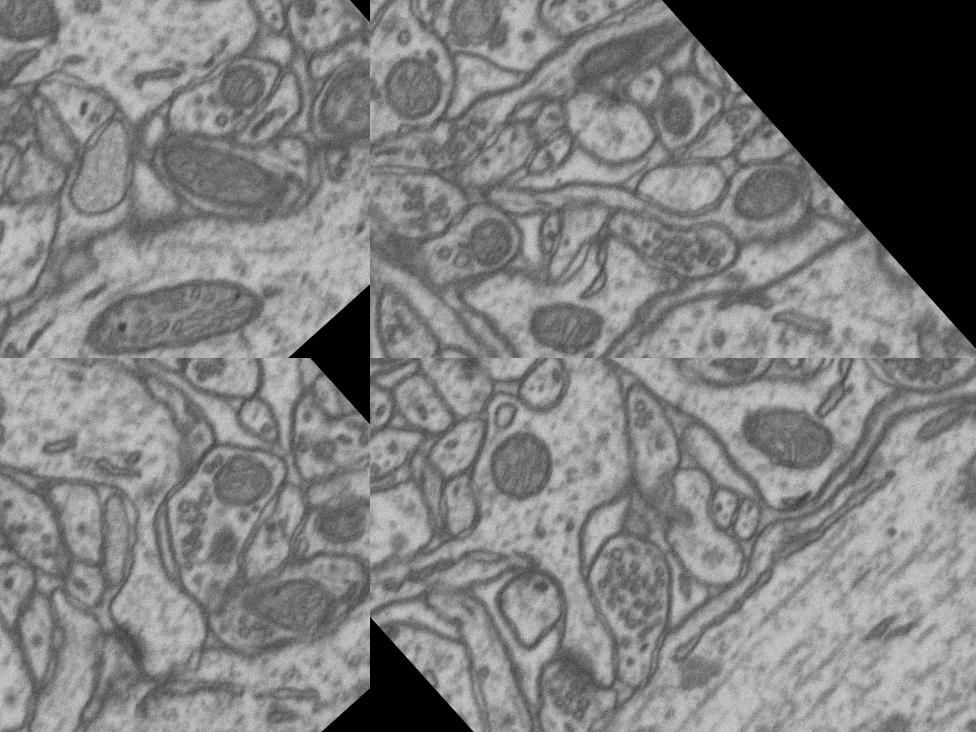mitochondria: (63, 210, 282, 358), (138, 93, 302, 257), (540, 0, 704, 135), (226, 536, 361, 670), (730, 374, 864, 508), (697, 128, 832, 260), (453, 402, 582, 530), (190, 428, 295, 534), (522, 266, 640, 358), (370, 34, 457, 148), (290, 48, 370, 171), (429, 190, 526, 290), (415, 0, 532, 72), (197, 38, 286, 126), (0, 0, 79, 76), (300, 484, 370, 561), (690, 358, 780, 406), (370, 377, 393, 467), (370, 358, 443, 386)
